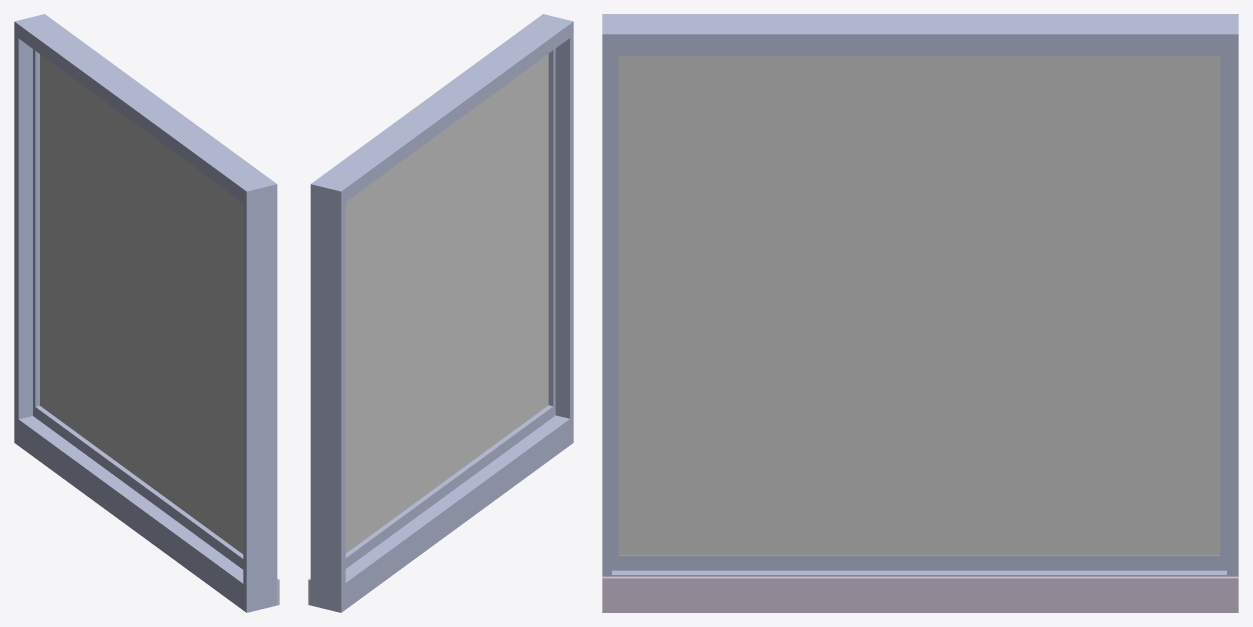
File: WallFrameWithGlass.fbx
The picture shows the model from 3 angles, left to right: view 1: azimuth 30°, elevation 25°; view 2: azimuth 150°, elevation 25°; view 3: azimuth 270°, elevation 25°; orthographic projection. The views are drawn at different scales.
Parts seen in each view (by area): view 1: WallGlass, WallWithSkirt.002; view 2: WallGlass, WallWithSkirt.002; view 3: WallGlass, WallWithSkirt.002.
Part boxes in pixels (x1,y1,x2,y2): WallGlass: [40, 54, 243, 553]; WallWithSkirt.002: [14, 14, 279, 612]; WallGlass: [345, 54, 548, 553]; WallWithSkirt.002: [308, 14, 573, 612]; WallGlass: [618, 56, 1220, 555]; WallWithSkirt.002: [602, 14, 1238, 612].
Bounding box in the file's own units: 16.36 × 200 × 200.
